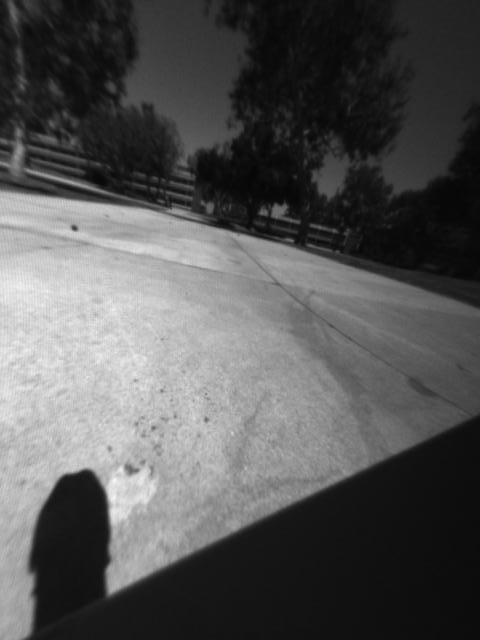dogtoy: (63, 216, 87, 237)
